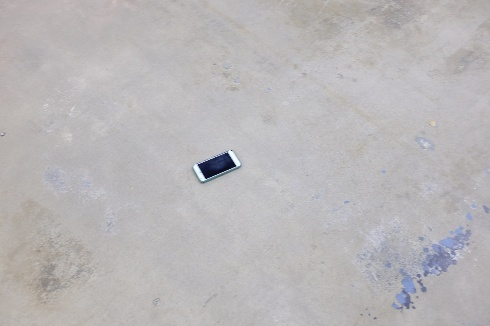phone: (191, 149, 240, 181)
